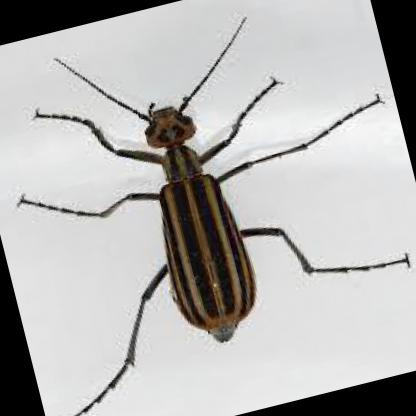blister beetle: (20, 20, 407, 368)
